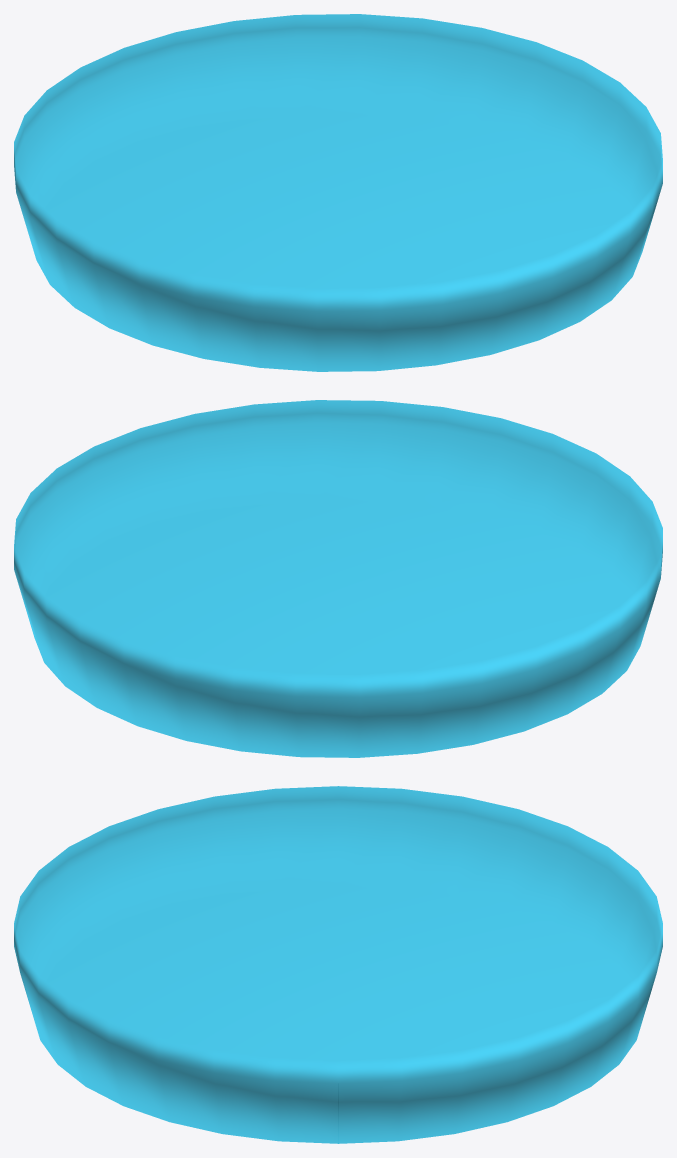
File: water_tuto.fbx
The picture shows the model from 3 angles, top to bottom: view 1: azimuth 30°, elevation 25°; view 2: azimuth 150°, elevation 25°; view 3: azimuth 270°, elevation 25°; orthographic projection.
Parts seen in each view (by area): view 1: water; view 2: water; view 3: water.
Part boxes in pixels (box(x1,y1,x2,y2)): water: box(14, 14, 662, 371); water: box(14, 400, 662, 757); water: box(14, 786, 662, 1143).
Size of the model in its own units: 183 by 28.69 by 183.
